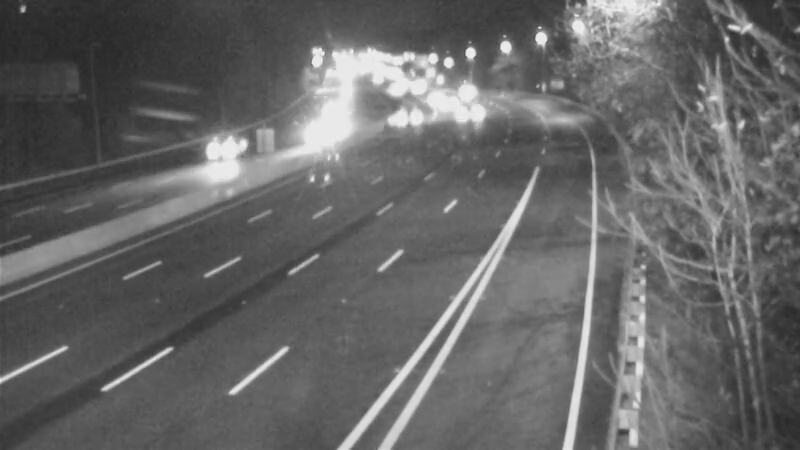vehicle: (442, 67, 492, 117), (366, 64, 416, 114), (404, 73, 454, 123), (420, 82, 470, 132), (450, 88, 500, 138), (312, 111, 362, 161), (195, 123, 245, 173), (304, 90, 354, 140)
